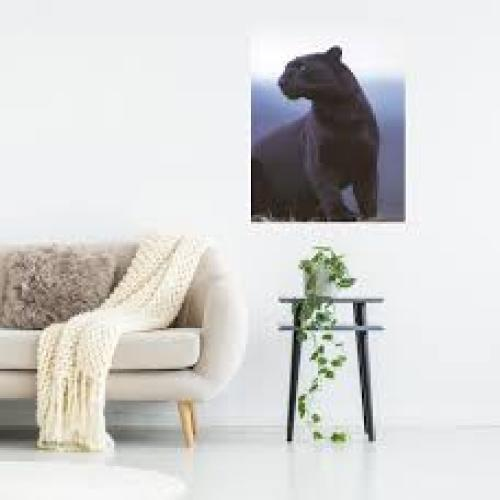panther-endangered: (248, 44, 387, 223)
